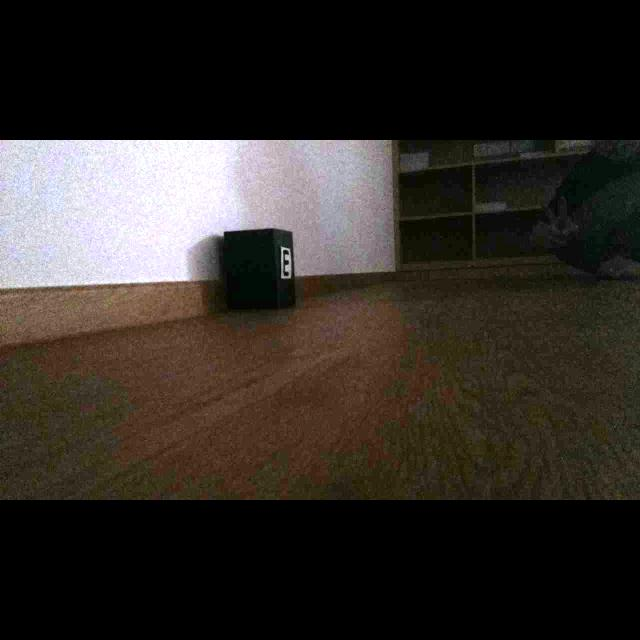E: (282, 249, 290, 277)
